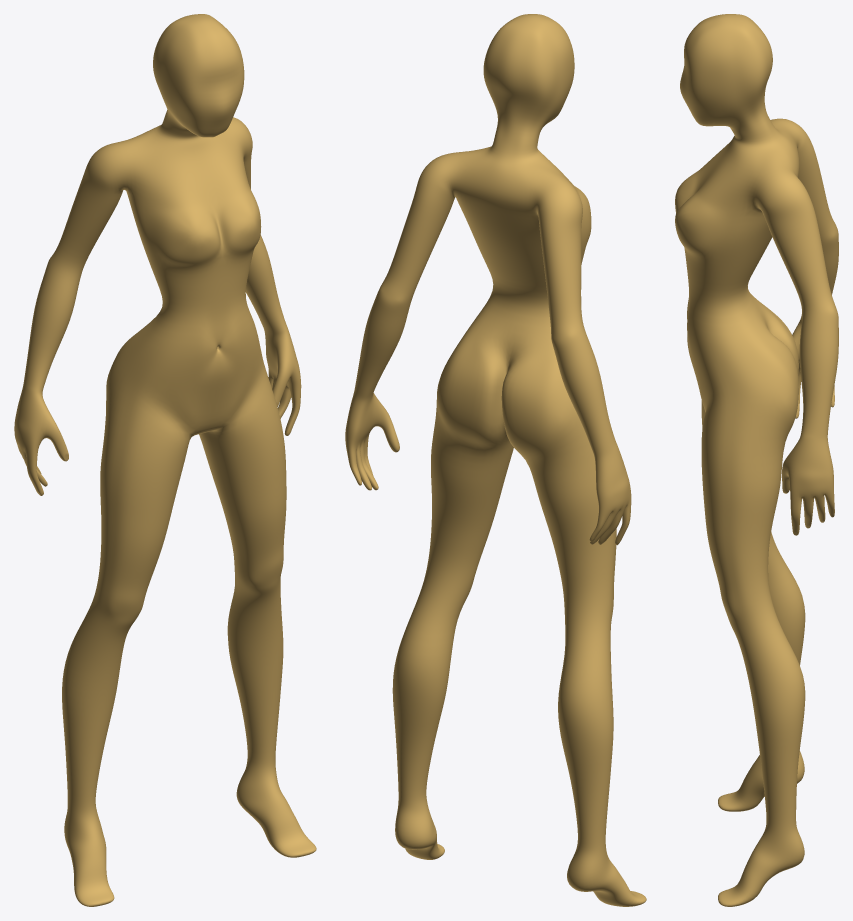
The model's file is Female_Body_Base_Model.fbx.
3 renders of one model, left to right at view 1: azimuth 30°, elevation 25°; view 2: azimuth 150°, elevation 25°; view 3: azimuth 270°, elevation 25°, orthographic. The views are drawn at different scales.
Visible parts, largest first — view 1: Female_Body_Base_Model; view 2: Female_Body_Base_Model; view 3: Female_Body_Base_Model.
Part boxes in pixels (<box>): Female_Body_Base_Model: <box>14,14,316,906</box>; Female_Body_Base_Model: <box>345,14,646,906</box>; Female_Body_Base_Model: <box>675,14,838,906</box>.
Size of the model in its own units: 816 by 2425 by 431.
